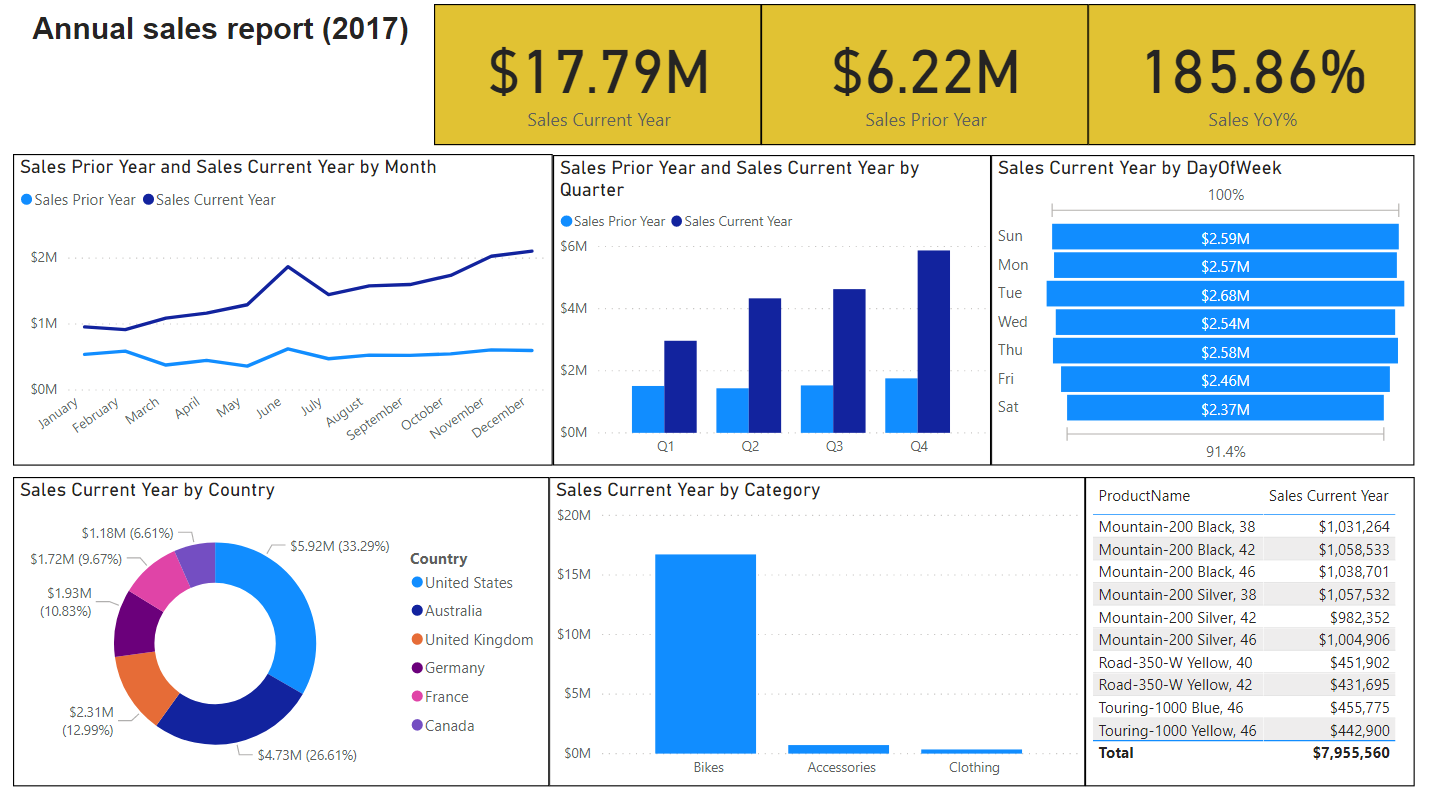

Layout of this report page (visuals, bound fields, positions):
{"tool":"powerbi","page":{"name":"Page 1","canvas":[1280,720],"ordinal":0},"visuals":[{"type":"card","fields":{"Values":["sales.sales"]},"box":[392.9,5.8,289.8,125.5],"z":0},{"type":"card","fields":{"Values":["sales.YoY%"]},"box":[972.6,5.8,289.8,125.5],"z":1000},{"type":"card","fields":{"Values":["sales.SalesLastyear"]},"box":[682.8,5.8,289.8,125.5],"z":2000},{"type":"columnChart","fields":{"Category":["product.Category"],"Y":["sales.Sales Current Year"]},"box":[495.1,425.1,475,273.7],"z":3000},{"type":"lineChart","fields":{"Y":["sales.Sales Prior Year","sales.Sales Current Year"],"Category":["Calendar.Month"]},"box":[20.4,139,478.2,276.3],"z":4000},{"type":"funnel","fields":{"Category":["Calendar.DayOfWeek"],"Y":["sales.Sales Current Year"]},"box":[886.5,139.9,375.5,275.4],"z":5000},{"type":"tableEx","fields":{"Values":["product.ProductName","sales.Sales Current Year"]},"box":[969.7,425.1,292.3,273.7],"z":6000},{"type":"donutChart","fields":{"Category":["territory.Country"],"Y":["sales.Sales Current Year"]},"box":[20.4,425.1,474.7,273.7],"z":7000},{"type":"clusteredColumnChart","fields":{"Category":["Calendar.Quarter"],"Y":["sales.Sales Prior Year","sales.Sales Current Year"]},"box":[498.6,139.9,387.9,275.4],"z":8000},{"type":"textbox","box":[20.4,7.8,367.7,47.7],"z":9000}]}

Visuals, with their boxes in screenshot pixels (x1, y1, x2, y2), scaled from the page's 1280x720 canvas onto the 1430x794 screenshot:
card - sales.sales: {"x1": 439, "y1": 6, "x2": 763, "y2": 145}
card - sales.YoY%: {"x1": 1087, "y1": 6, "x2": 1410, "y2": 145}
card - sales.SalesLastyear: {"x1": 763, "y1": 6, "x2": 1087, "y2": 145}
columnChart - product.Category x sales.Sales Current Year: {"x1": 553, "y1": 469, "x2": 1084, "y2": 771}
lineChart - sales.Sales Prior Year x sales.Sales Current Year: {"x1": 23, "y1": 153, "x2": 557, "y2": 458}
funnel - Calendar.DayOfWeek x sales.Sales Current Year: {"x1": 990, "y1": 154, "x2": 1410, "y2": 458}
tableEx - product.ProductName x sales.Sales Current Year: {"x1": 1083, "y1": 469, "x2": 1410, "y2": 771}
donutChart - territory.Country x sales.Sales Current Year: {"x1": 23, "y1": 469, "x2": 553, "y2": 771}
clusteredColumnChart - Calendar.Quarter x sales.Sales Prior Year: {"x1": 557, "y1": 154, "x2": 990, "y2": 458}
textbox: {"x1": 23, "y1": 9, "x2": 434, "y2": 61}
